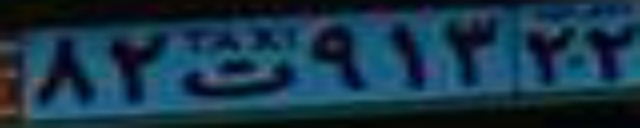1: (387, 22, 431, 90)
2: (108, 31, 168, 104), (523, 28, 573, 85), (584, 24, 633, 82)
3: (443, 16, 499, 86)
8: (40, 35, 96, 105)
9: (309, 23, 368, 93)
te: (183, 55, 296, 97)
